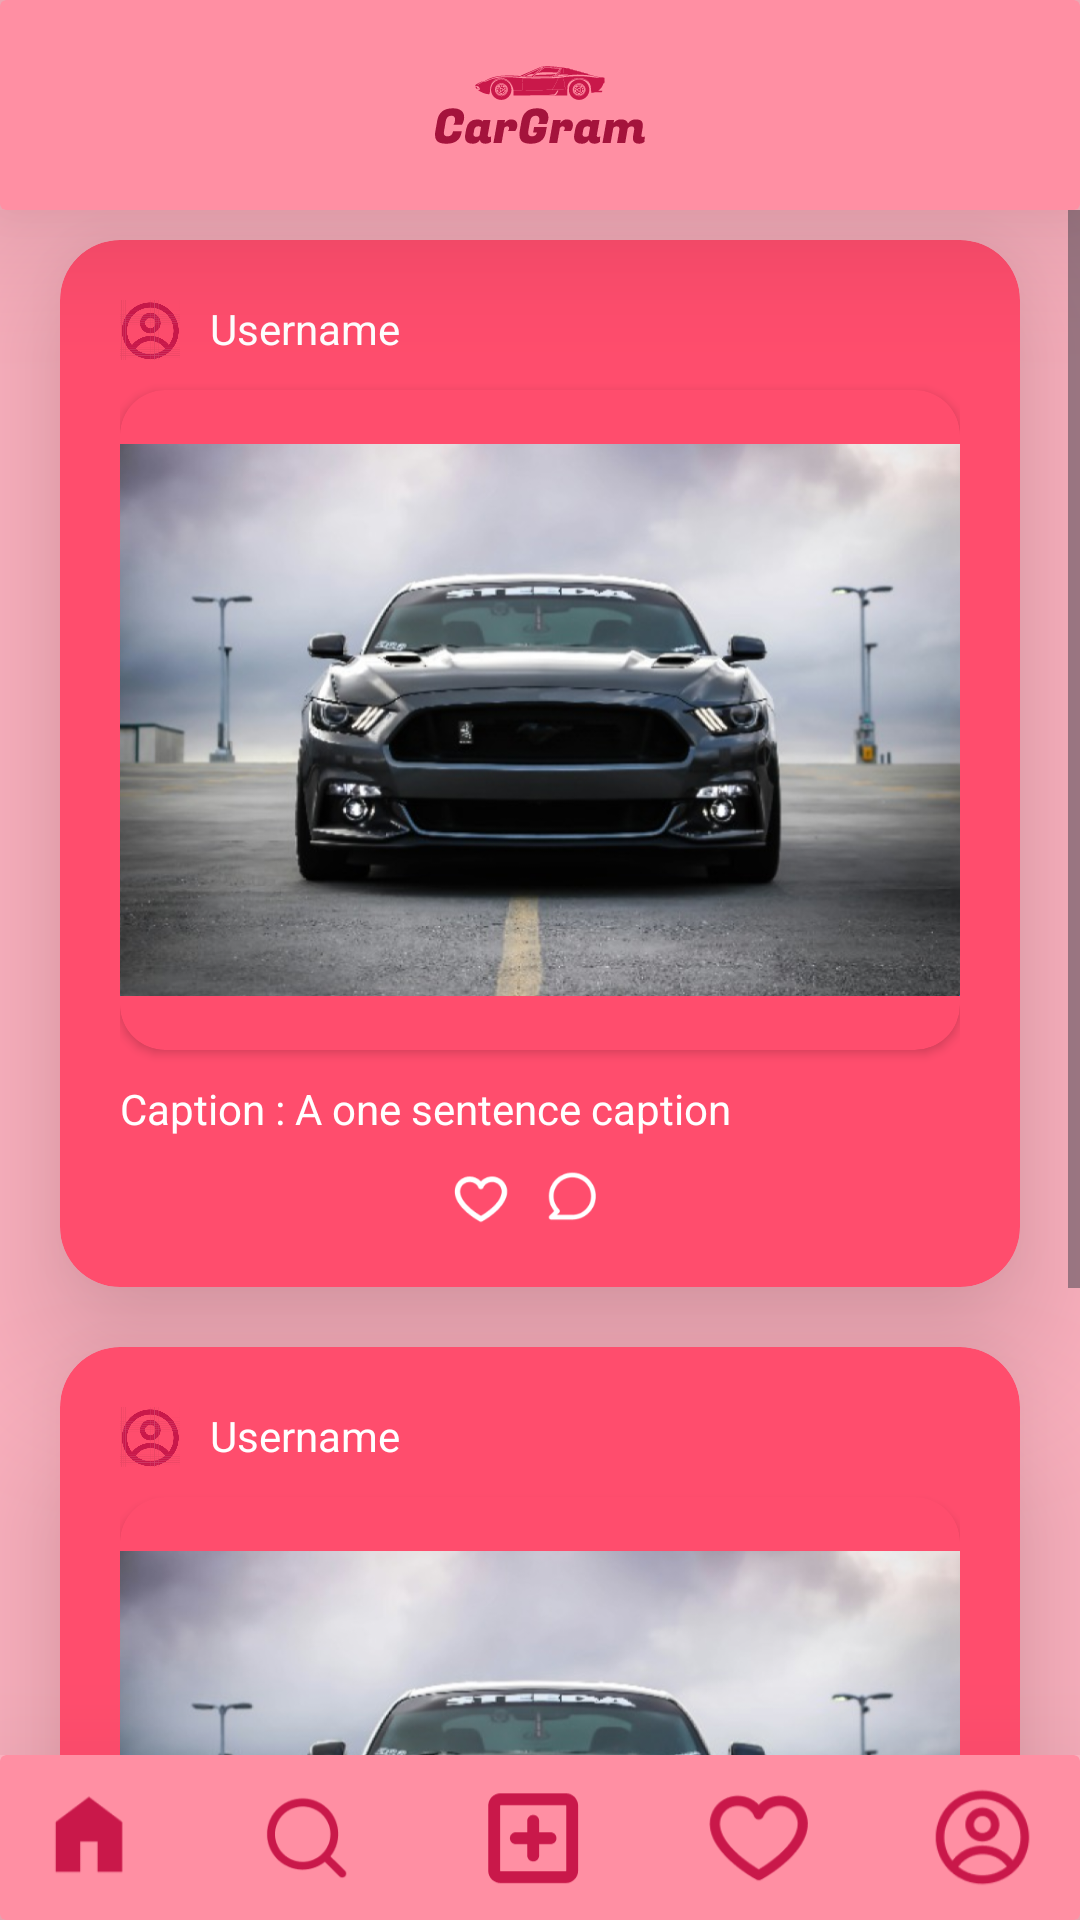

Where to tap for icons on this 1080px x 1920px app screen, as (x,y):
comment: (572,1196)
homebtn: (89,1835)
like: (481,1199)
notifbtn: (758,1838)
postbtn: (533,1838)
profile: (150,330), (150,1437)
profilebtn: (982,1837)
searchbtn: (307,1838)
